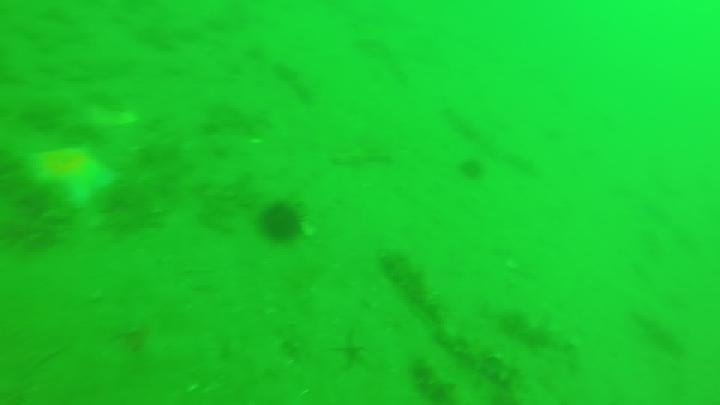echinus: (256, 199, 306, 245), (456, 155, 487, 182)
holothurian: (436, 326, 526, 389), (378, 248, 445, 319), (629, 306, 689, 359), (407, 356, 458, 403)
starfish: (24, 144, 121, 210)
